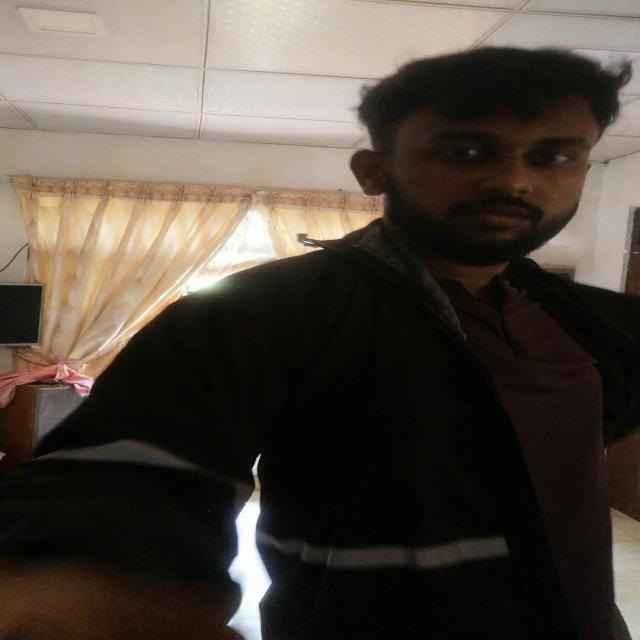Jacket_Wearer: (18, 224, 640, 630)
Person: (7, 41, 640, 640)
